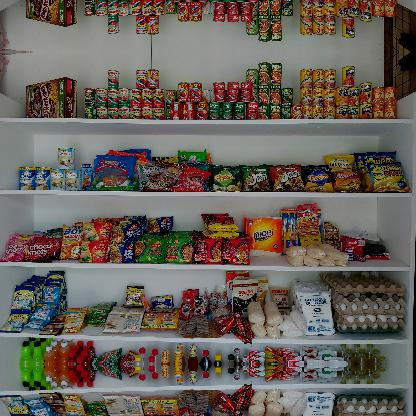Koko-Krunch: (26, 76, 76, 118), (25, 0, 77, 28)
